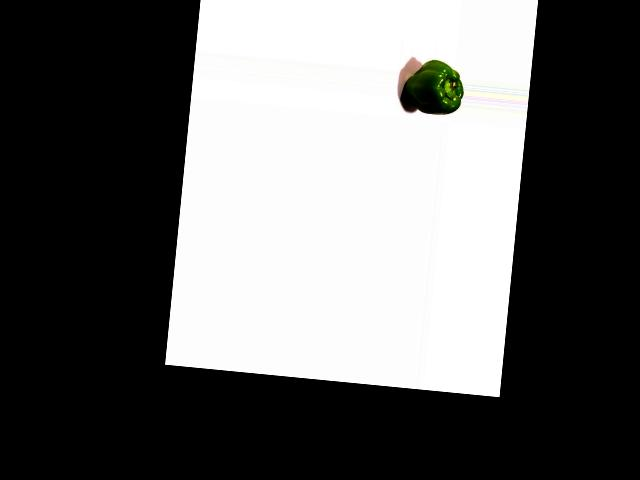bell_pepper: (399, 55, 465, 118)
